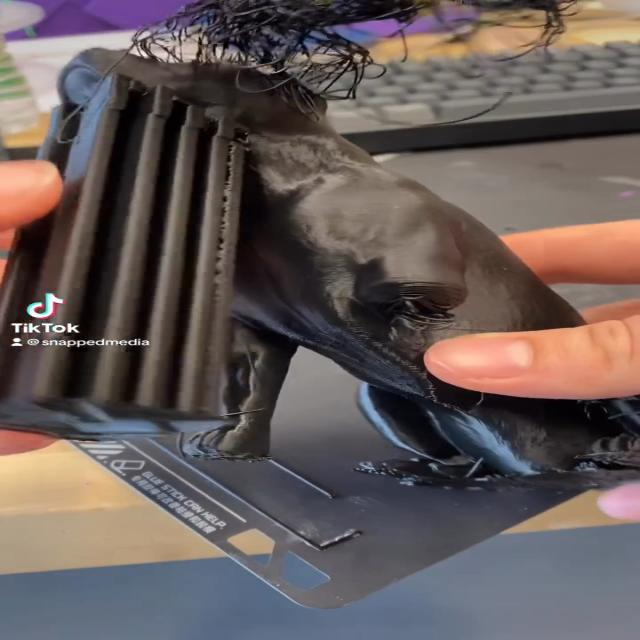spaghetti: (123, 0, 579, 102)
